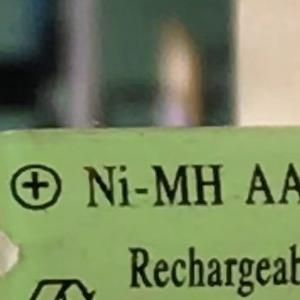keyword: (74, 155, 228, 217)
